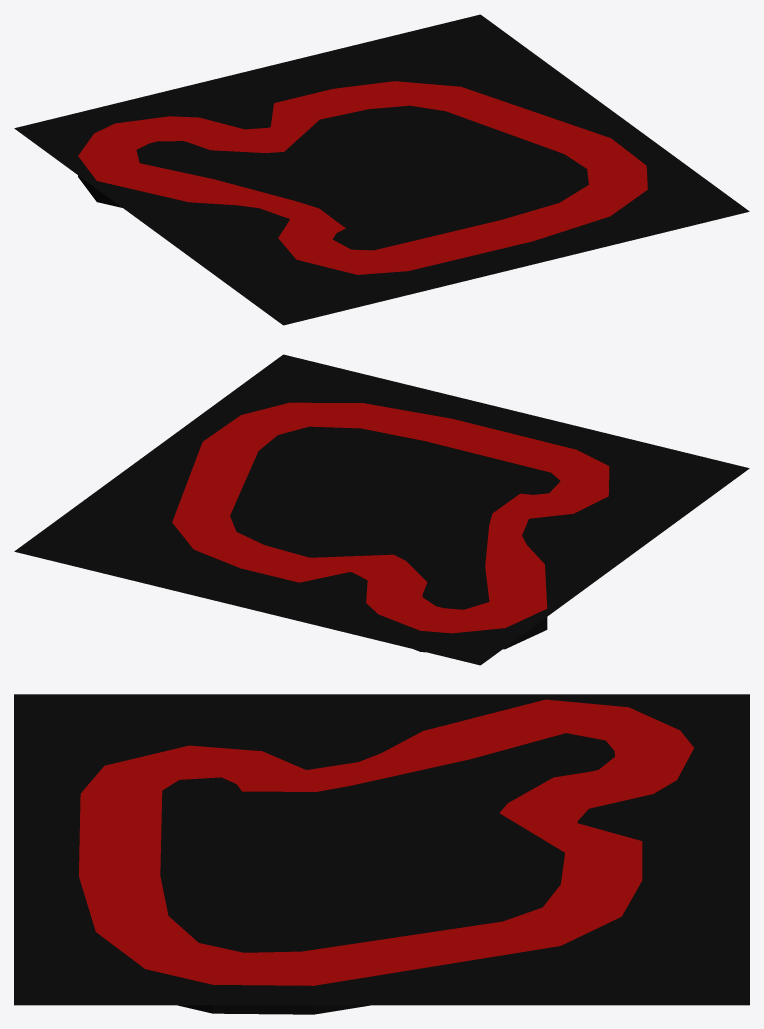
The model's file is flatMap.obj.
The picture shows the model from 3 angles, top to bottom: view 1: azimuth 30°, elevation 25°; view 2: azimuth 150°, elevation 25°; view 3: azimuth 270°, elevation 25°; orthographic projection. The views are drawn at different scales.
Parts seen in each view (by area): view 1: pasted__pasted__pasted__pCube2; view 2: pasted__pasted__pasted__pCube2; view 3: pasted__pasted__pasted__pCube2.
Boxes of the visible parts, bbox=[...] form: pasted__pasted__pasted__pCube2: bbox=[14, 14, 749, 325]; pasted__pasted__pasted__pCube2: bbox=[14, 354, 749, 665]; pasted__pasted__pasted__pCube2: bbox=[14, 694, 749, 1014].
Bounding box in the file's own units: 23.13 × 1 × 23.13.
